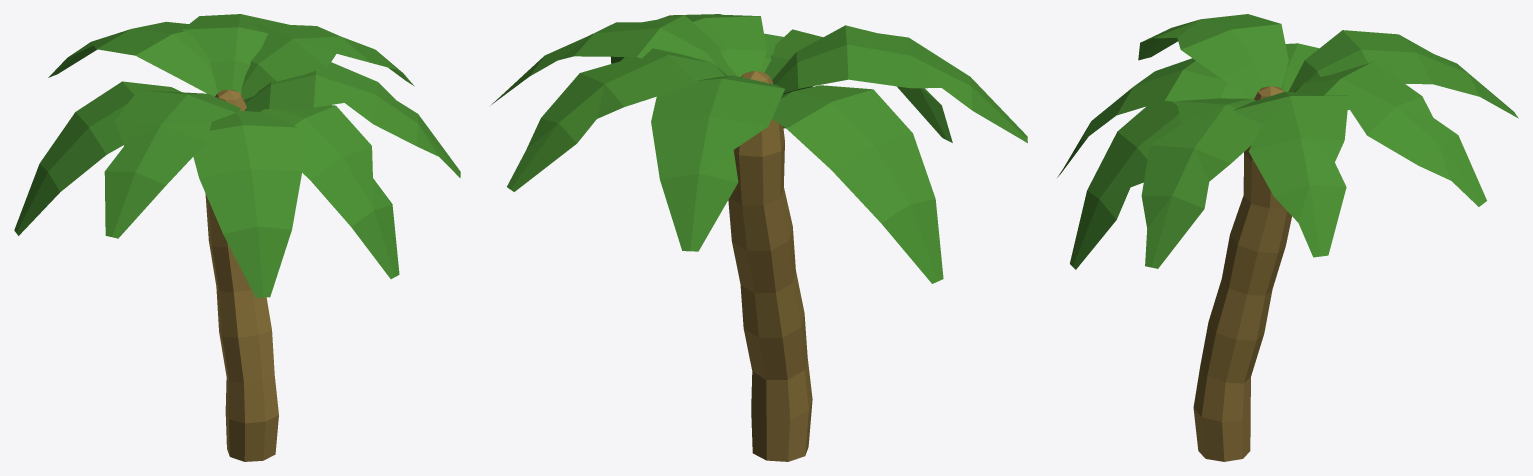
The model's file is PalmTree_4.fbx.
3 renders of one model, left to right at view 1: azimuth 30°, elevation 25°; view 2: azimuth 150°, elevation 25°; view 3: azimuth 270°, elevation 25°, orthographic. The views are drawn at different scales.
Visible parts, largest first — view 1: Leaf_1.001, Trunk, Leaf_3, Leaf_2.001, Leaf_4.001, Leaf_1, Leaf_4, Leaf_2, Leaf_1.003, Leaf_4.002, Leaf_2.003, Leaf_4.004 (+4 smaller); view 2: Trunk, Leaf_1, Leaf_2, Leaf_4.002, Leaf_3, Leaf_4, Leaf_1.002, Leaf_2.002, Leaf_4.001, Leaf_3.001, Leaf_4.003, Leaf_1.001 (+3 smaller); view 3: Trunk, Leaf_4, Leaf_4.001, Leaf_4.002, Leaf_2, Leaf_2.001, Leaf_3.001, Leaf_1.001, Leaf_4.005, Leaf_4.004, Leaf_4.003, Leaf_2.002 (+4 smaller).
Part boxes in pixels (<box>): Leaf_1.001: <box>193,110,302,297</box>; Trunk: <box>205,89,278,461</box>; Leaf_3: <box>104,90,235,238</box>; Leaf_2.001: <box>248,105,399,278</box>; Leaf_4.001: <box>244,62,460,177</box>; Leaf_1: <box>14,81,181,235</box>; Leaf_4: <box>241,23,414,99</box>; Leaf_2: <box>48,21,217,96</box>; Leaf_1.003: <box>195,110,301,297</box>; Leaf_4.002: <box>182,14,289,94</box>; Leaf_2.003: <box>251,105,399,278</box>; Leaf_4.004: <box>246,63,459,174</box>; Trunk: <box>728,71,812,461</box>; Leaf_1: <box>772,85,943,283</box>; Leaf_2: <box>651,75,784,251</box>; Leaf_4.002: <box>507,48,727,191</box>; Leaf_3: <box>845,25,1027,142</box>; Leaf_4: <box>490,15,736,105</box>; Leaf_1.002: <box>775,86,942,282</box>; Leaf_2.002: <box>652,76,783,250</box>; Leaf_4.001: <box>611,14,766,76</box>; Leaf_3.001: <box>772,25,848,92</box>; Leaf_4.003: <box>509,49,726,189</box>; Leaf_1.001: <box>764,29,952,142</box>; Trunk: <box>1193,86,1291,461</box>; Leaf_4: <box>1233,91,1348,257</box>; Leaf_4.001: <box>1141,98,1261,268</box>; Leaf_4.002: <box>1294,61,1486,206</box>; Leaf_2: <box>1288,30,1518,118</box>; Leaf_2.001: <box>1070,101,1181,269</box>; Leaf_3.001: <box>1138,24,1288,98</box>; Leaf_1.001: <box>1057,58,1253,177</box>; Leaf_4.005: <box>1234,92,1347,256</box>; Leaf_4.004: <box>1142,98,1258,267</box>; Leaf_4.003: <box>1298,64,1486,206</box>; Leaf_2.002: <box>1291,31,1515,116</box>.
Bounding box in the file's own units: 405 × 368 × 392.
